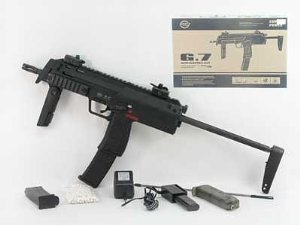rifle: (20, 47, 281, 195)
